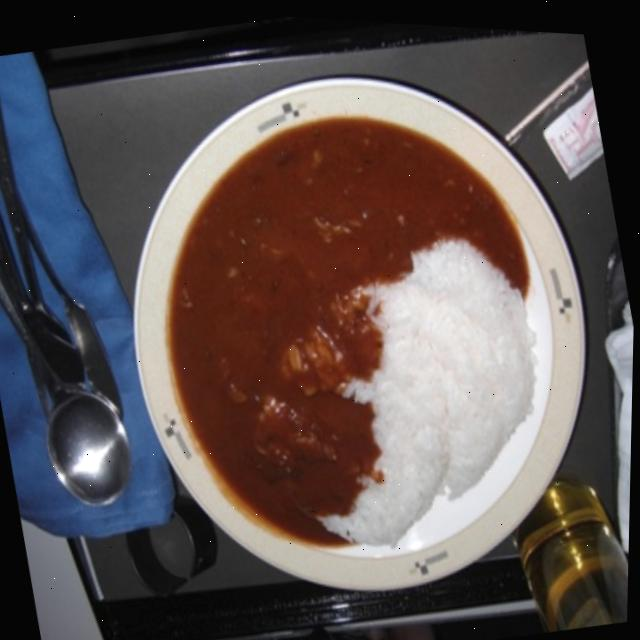牛肉菜式: (131, 53, 588, 614)
